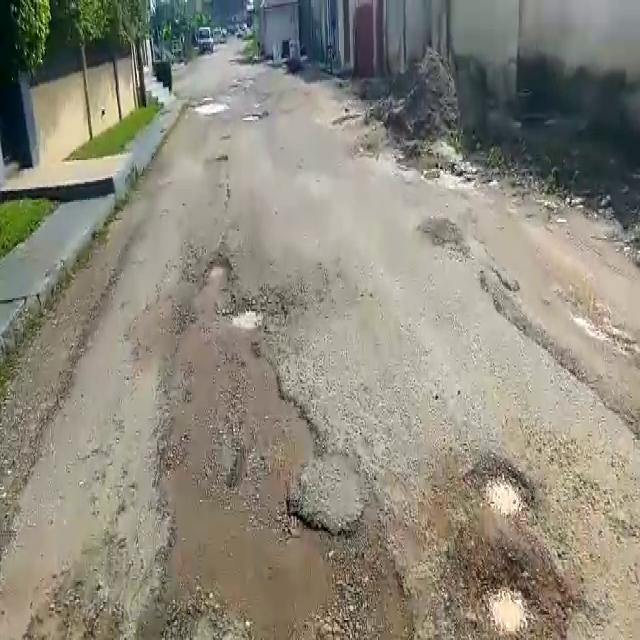Pothole: (453, 540, 564, 640), (468, 458, 536, 524), (230, 306, 264, 332), (203, 256, 230, 280)
